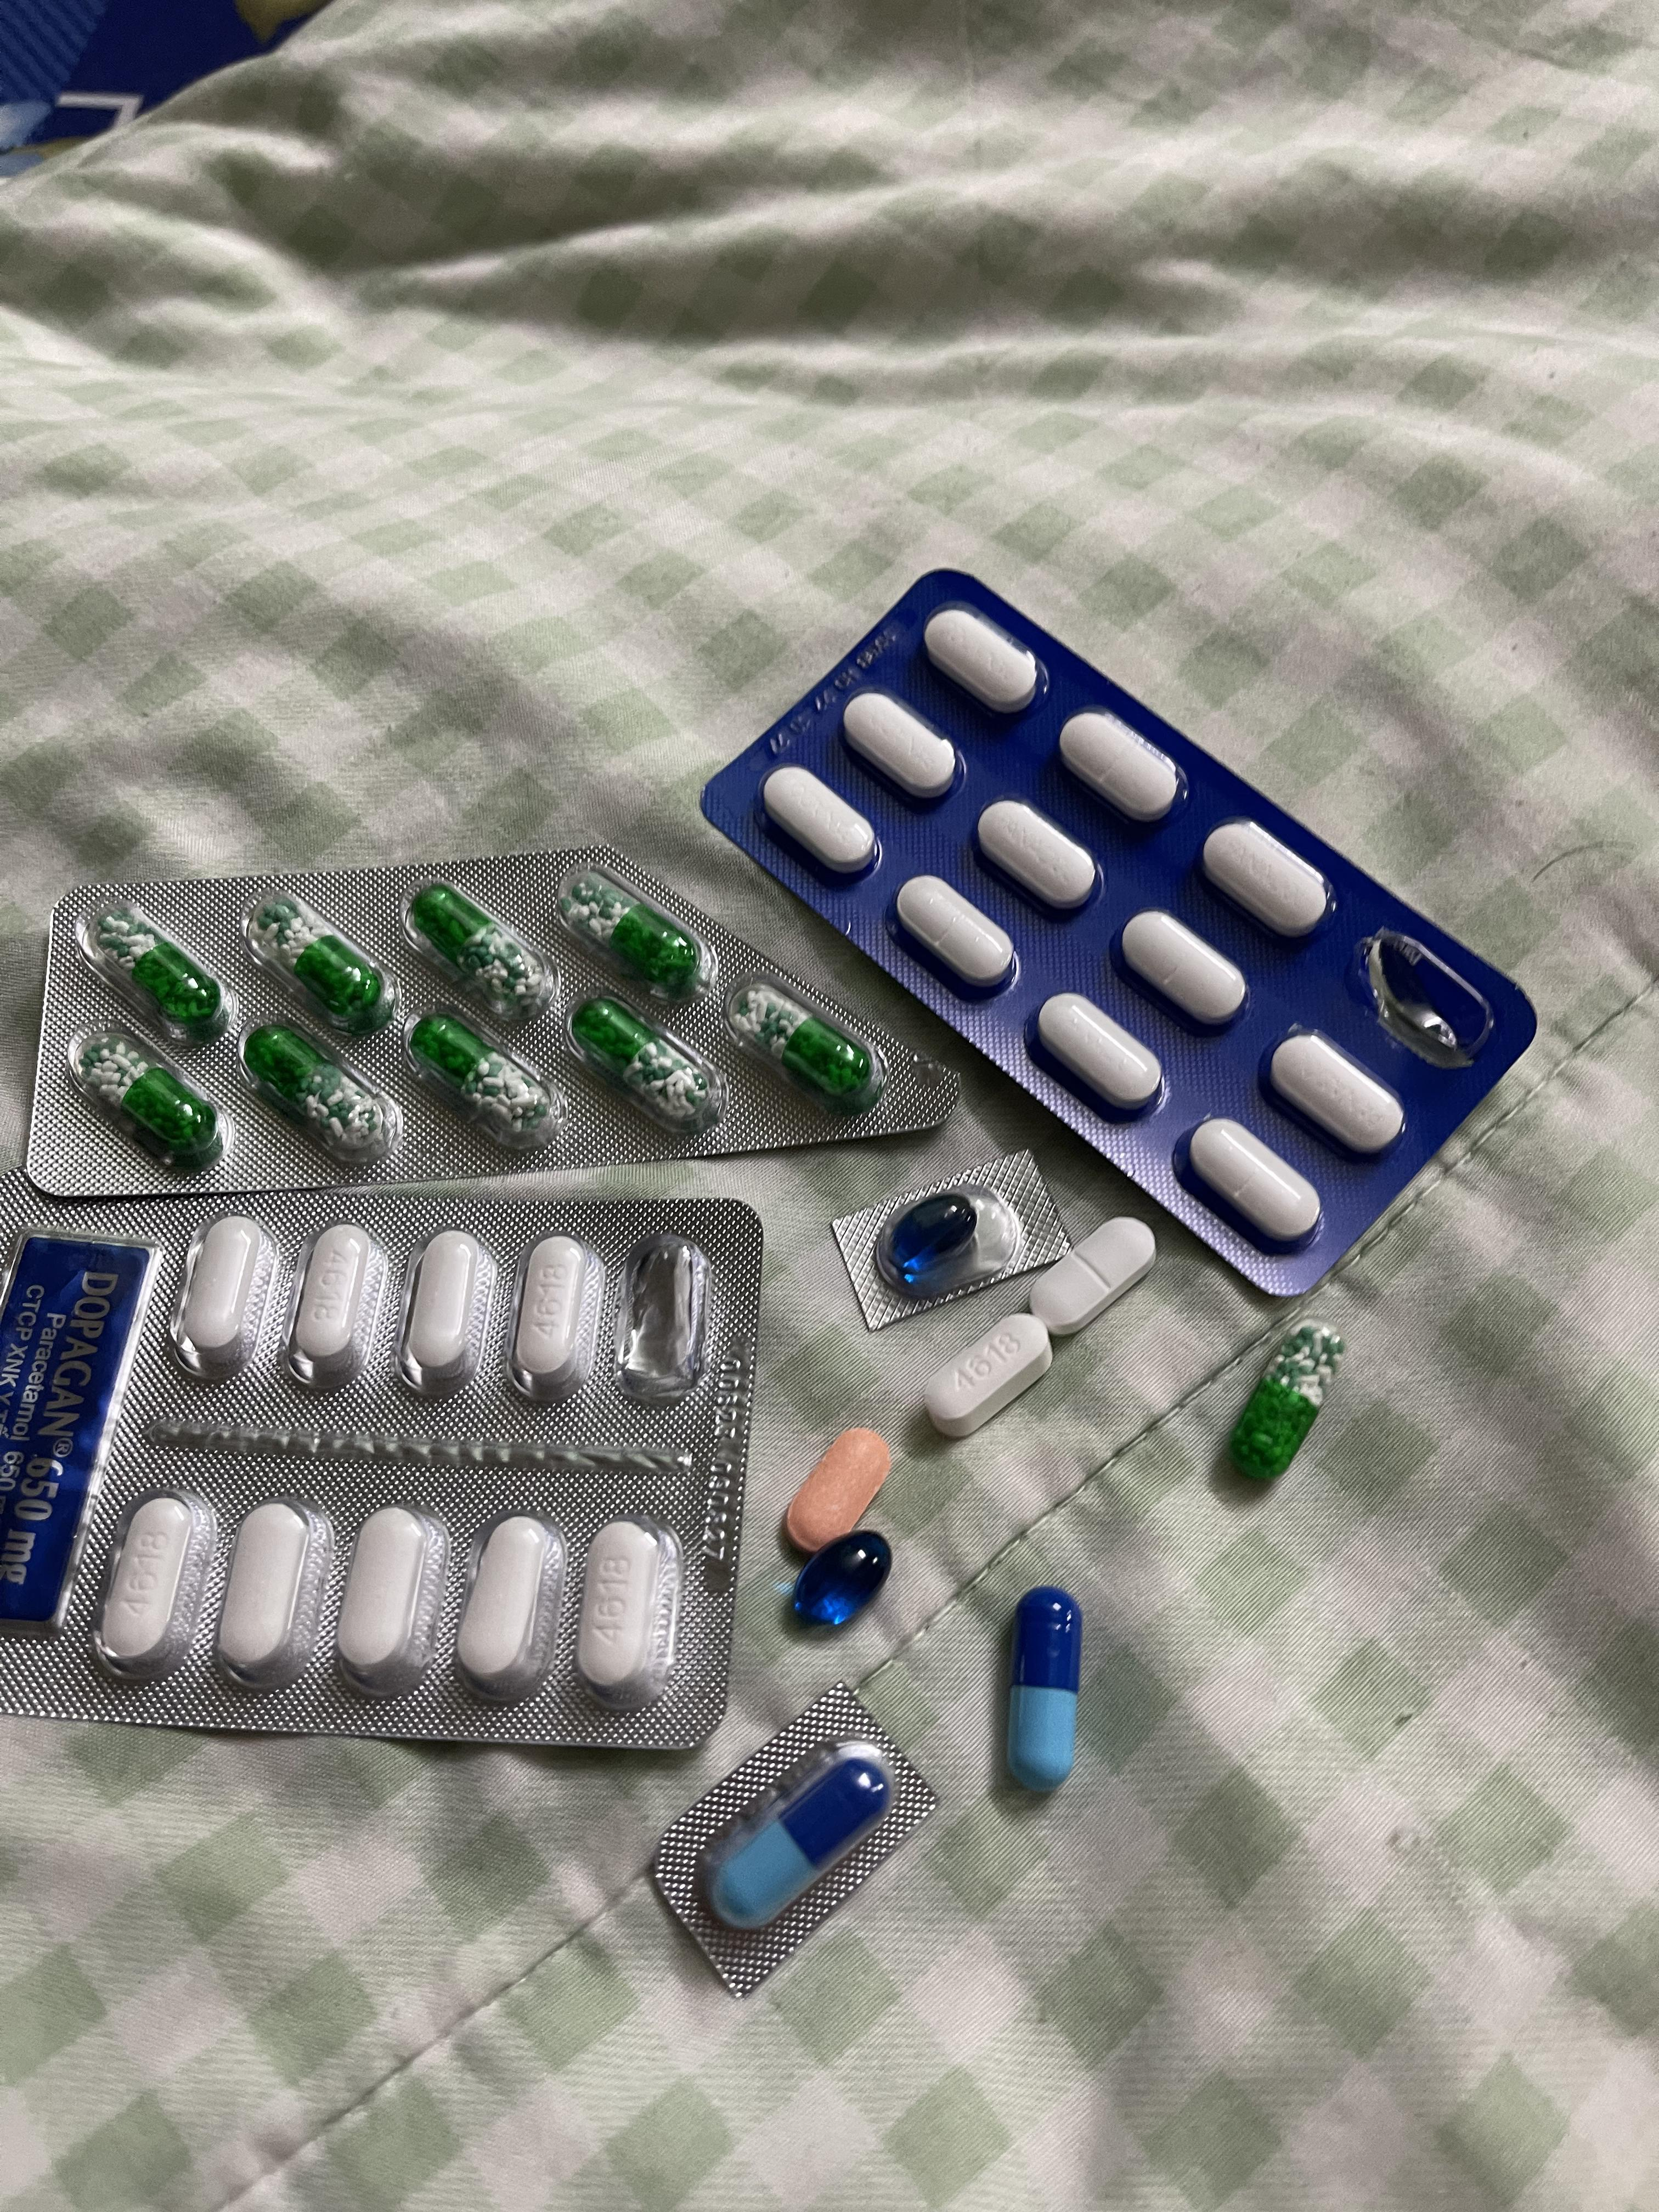Lincomyxin_500mg: (791, 1529, 892, 1625), (890, 1197, 979, 1278)
Loratadine_10mg: (789, 1426, 894, 1550)
Paracetamol_350mg: (1178, 1118, 1324, 1247), (1265, 1028, 1408, 1157), (1028, 991, 1164, 1118), (1115, 909, 1248, 1029), (1199, 819, 1333, 935), (1028, 1219, 1154, 1338), (894, 874, 1016, 991), (1061, 711, 1185, 824), (976, 799, 1100, 911), (843, 691, 962, 801), (762, 765, 877, 874), (924, 606, 1042, 712)
Paracetamol_500mg: (89, 1487, 216, 1686), (214, 1494, 335, 1691), (333, 1503, 451, 1698), (575, 1514, 688, 1710), (453, 1512, 566, 1702), (284, 1219, 390, 1388), (167, 1216, 275, 1379), (394, 1230, 495, 1399), (504, 1233, 601, 1404), (924, 1317, 1058, 1439)
Paracetamol_650mg: (242, 1024, 394, 1155), (410, 883, 558, 1015), (410, 1015, 559, 1146), (1227, 1320, 1345, 1479), (568, 998, 713, 1123), (82, 1033, 220, 1160), (253, 899, 387, 1024), (565, 874, 702, 993), (92, 909, 221, 1028), (739, 986, 868, 1103)
pill: (708, 1754, 896, 1933), (1009, 1587, 1087, 1789)
